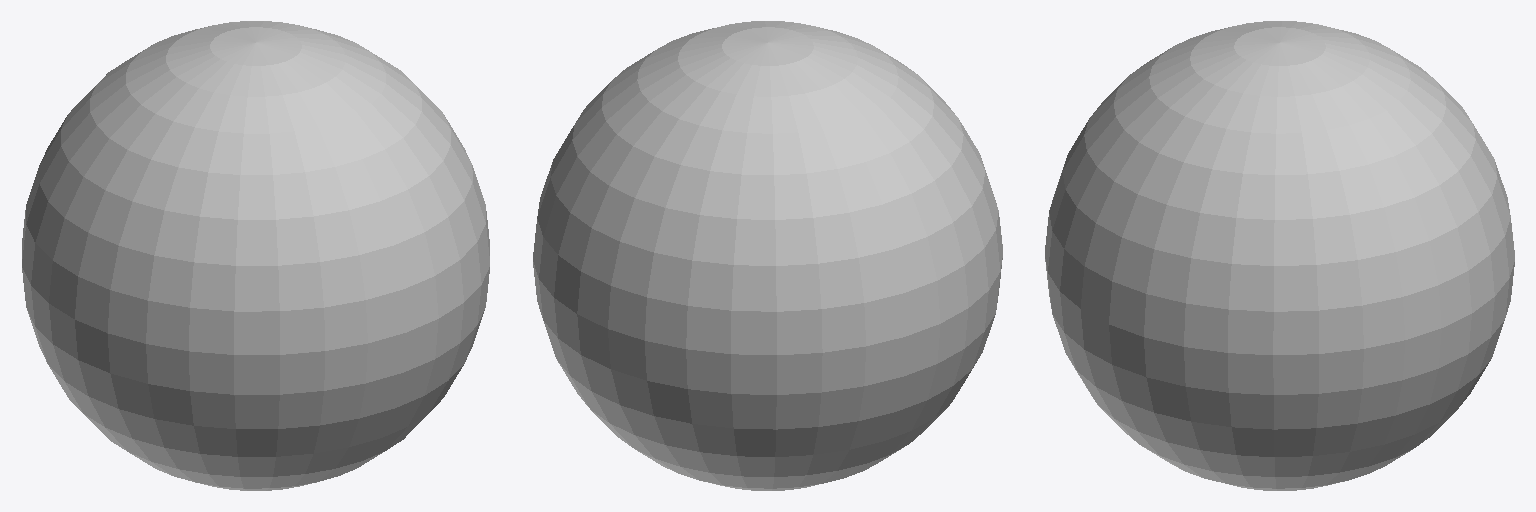
The model's file is mesh_legjoint_l1.obj.
3 views of the same model, side by side, from view 1: azimuth 30°, elevation 25°; view 2: azimuth 150°, elevation 25°; view 3: azimuth 270°, elevation 25° (orthographic).
Parts seen in each view (by area): view 1: Sphere.010_Sphere.019; view 2: Sphere.010_Sphere.019; view 3: Sphere.010_Sphere.019.
Boxes of the visible parts, x1=… form: Sphere.010_Sphere.019: x1=22, y1=21, x2=489, y2=490; Sphere.010_Sphere.019: x1=533, y1=21, x2=1002, y2=490; Sphere.010_Sphere.019: x1=1045, y1=21, x2=1514, y2=490.
Bounding box in the file's own units: 0.2999 × 0.3 × 0.2999.